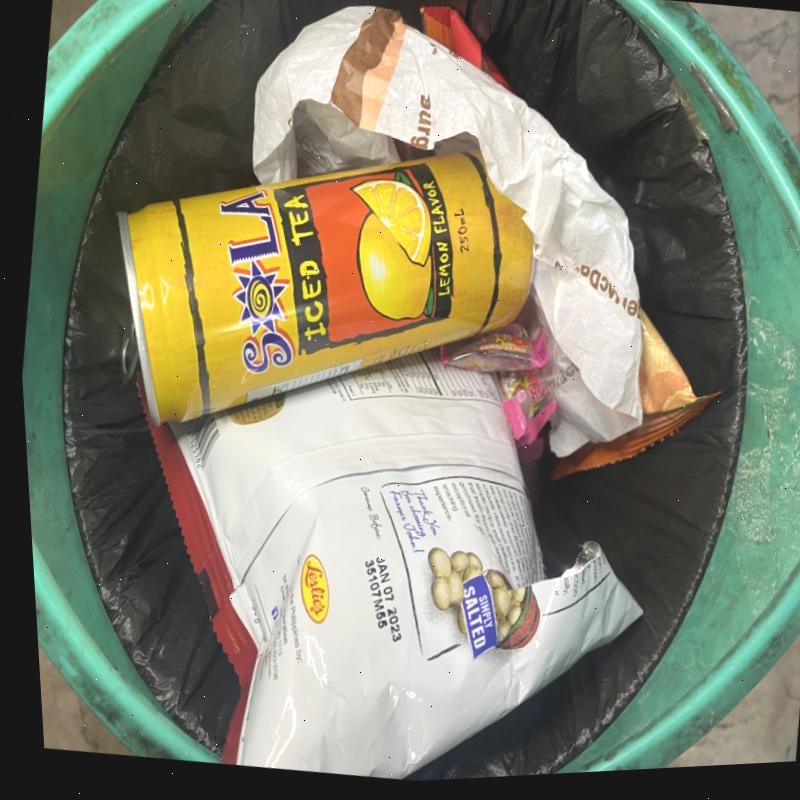aluminum: (118, 150, 537, 426)
food wrapper: (154, 358, 646, 774), (551, 304, 721, 479), (440, 321, 557, 447)
paper: (254, 5, 646, 456)
